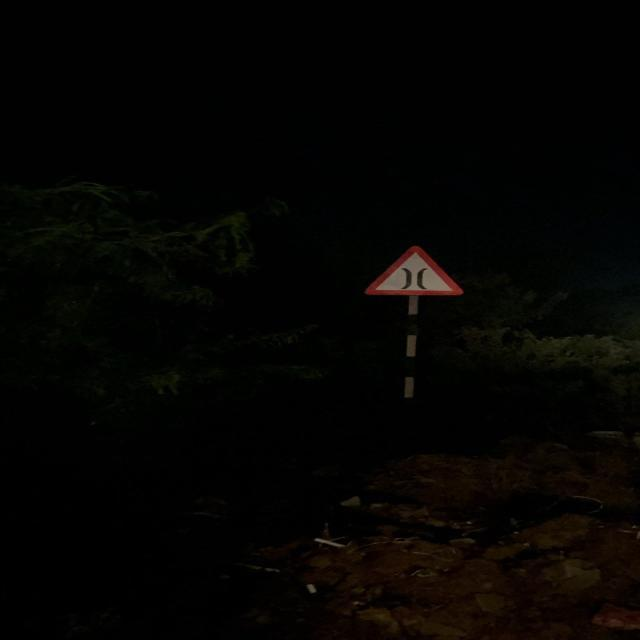narrow bridge ahead: (365, 246, 464, 296)
